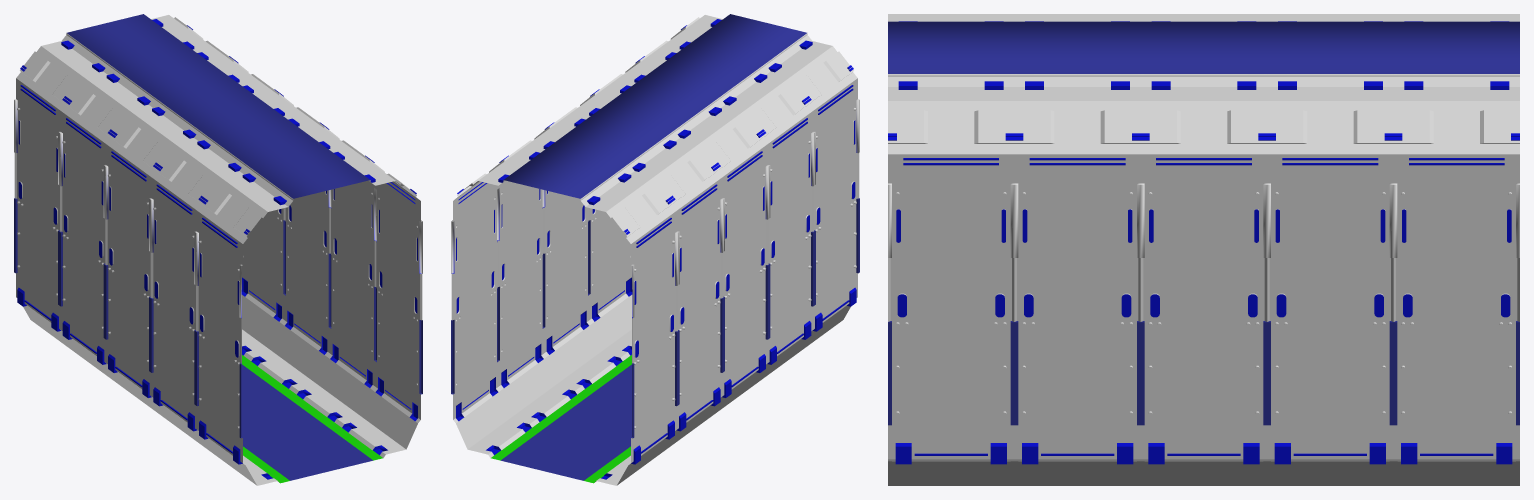
The model's file is corridor.fbx.
3 views of the same model, side by side, from view 1: azimuth 30°, elevation 25°; view 2: azimuth 150°, elevation 25°; view 3: azimuth 270°, elevation 25° (orthographic). The views are drawn at different scales.
Parts seen in each view (by area): view 1: couloir.003; view 2: couloir.003; view 3: couloir.003.
Part boxes in pixels (left/top/right/bottom): couloir.003: left=14, top=14, right=422, bottom=485; couloir.003: left=451, top=14, right=859, bottom=485; couloir.003: left=888, top=14, right=1519, bottom=485.
Size of the model in its own units: 140 by 207 by 302.
